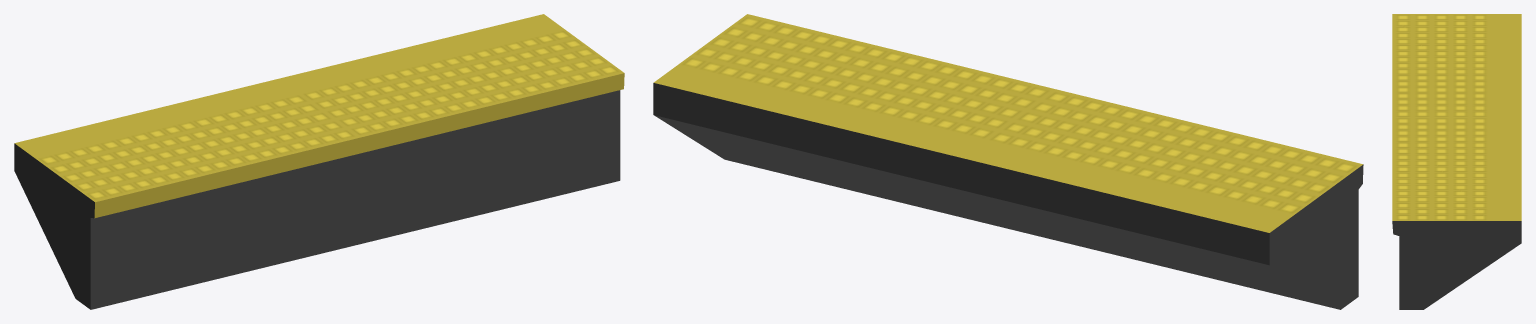
The model's file is SW_ENV_StationStair_Steps_TopAndBottom.fbx.
3 renders of one model, left to right at view 1: azimuth 30°, elevation 25°; view 2: azimuth 150°, elevation 25°; view 3: azimuth 270°, elevation 25°, orthographic. The views are drawn at different scales.
Parts seen in each view (by area): view 1: SW_ENV_StationStair_Steps_TopAndBottom; view 2: SW_ENV_StationStair_Steps_TopAndBottom; view 3: SW_ENV_StationStair_Steps_TopAndBottom.
Boxes of the visible parts, x1,y1,x2,y2 form: SW_ENV_StationStair_Steps_TopAndBottom: [14, 14, 624, 309]; SW_ENV_StationStair_Steps_TopAndBottom: [653, 14, 1363, 309]; SW_ENV_StationStair_Steps_TopAndBottom: [1392, 14, 1521, 309].
Bounding box in the file's own units: 100 × 20 × 26.42.
